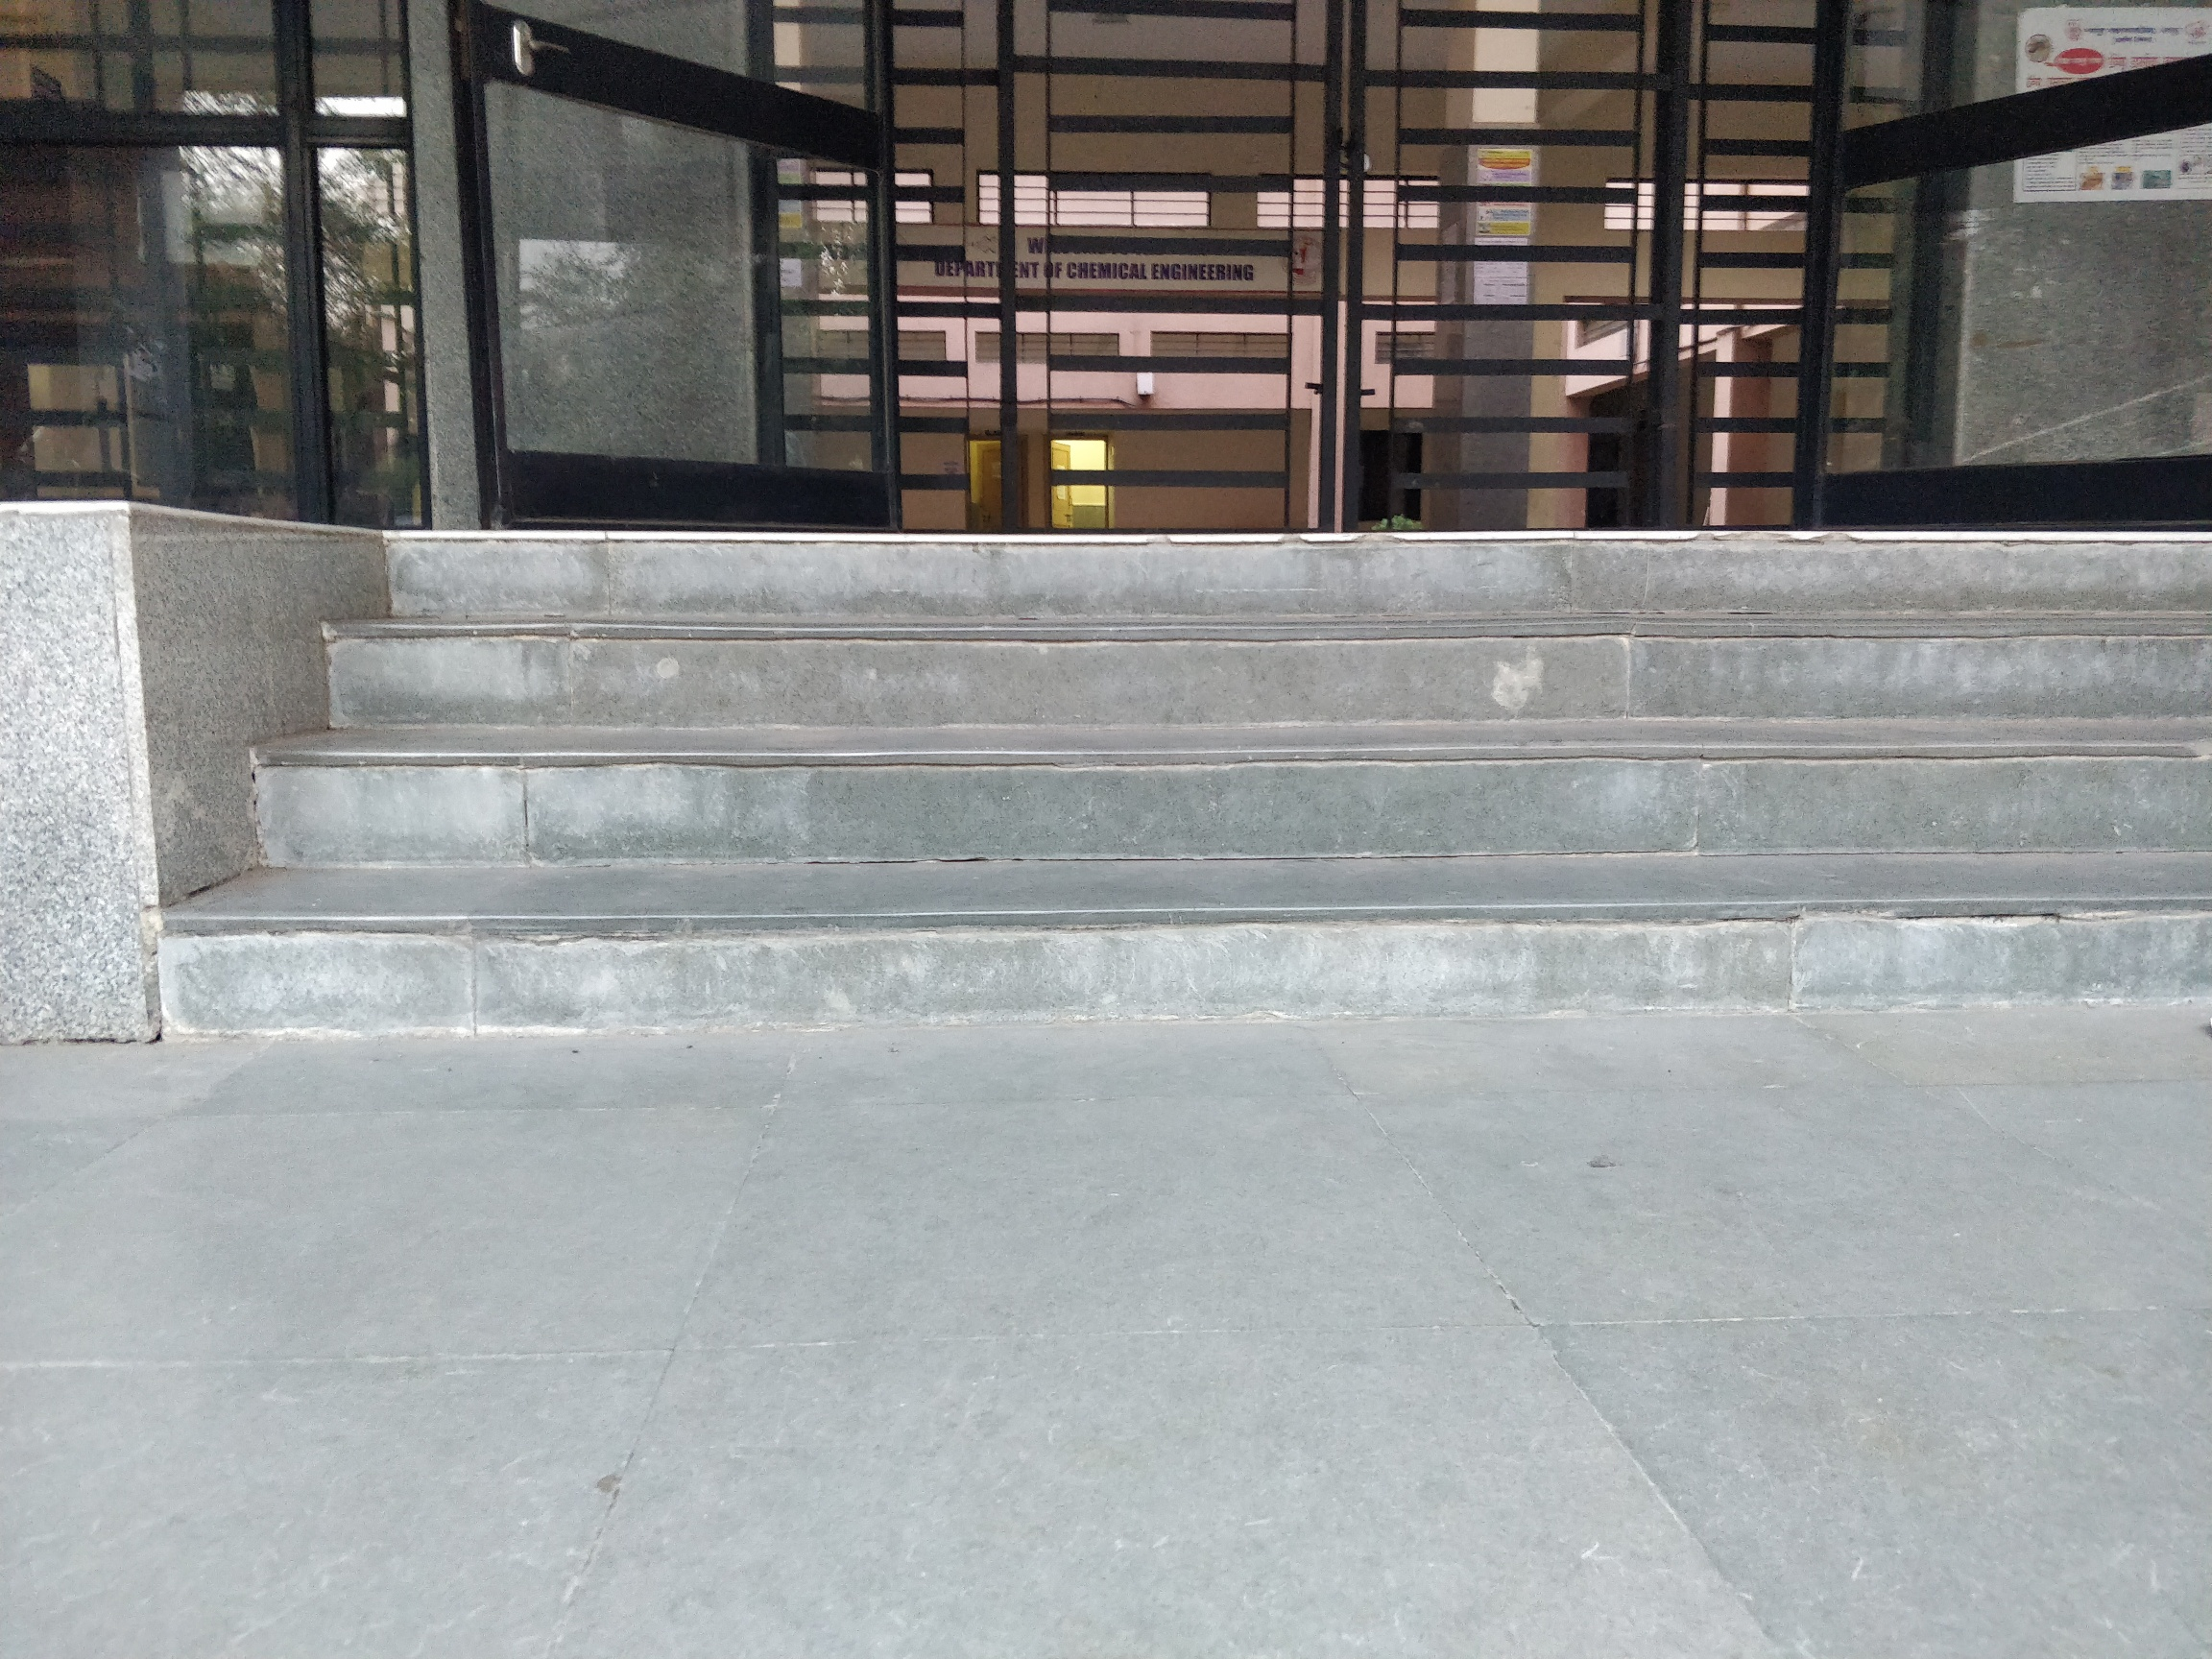stairs_up: (167, 514, 2212, 1105)
